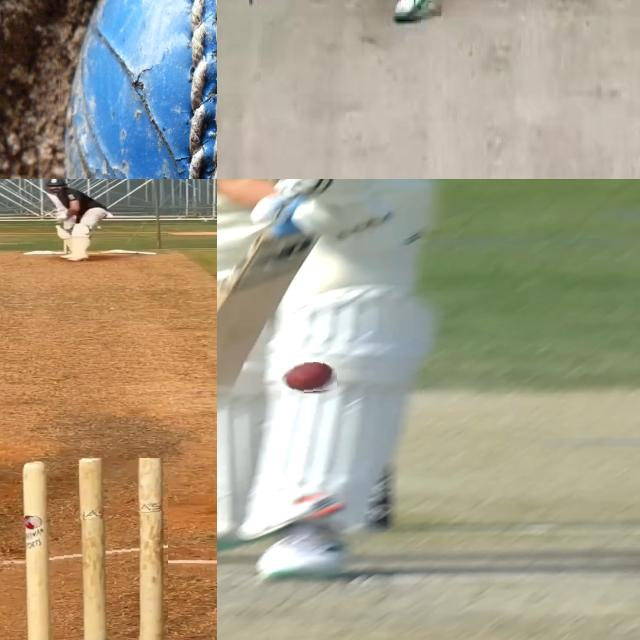Cricket ball: (57, 0, 217, 179), (279, 362, 337, 395)
Stumps: (19, 458, 168, 640)
